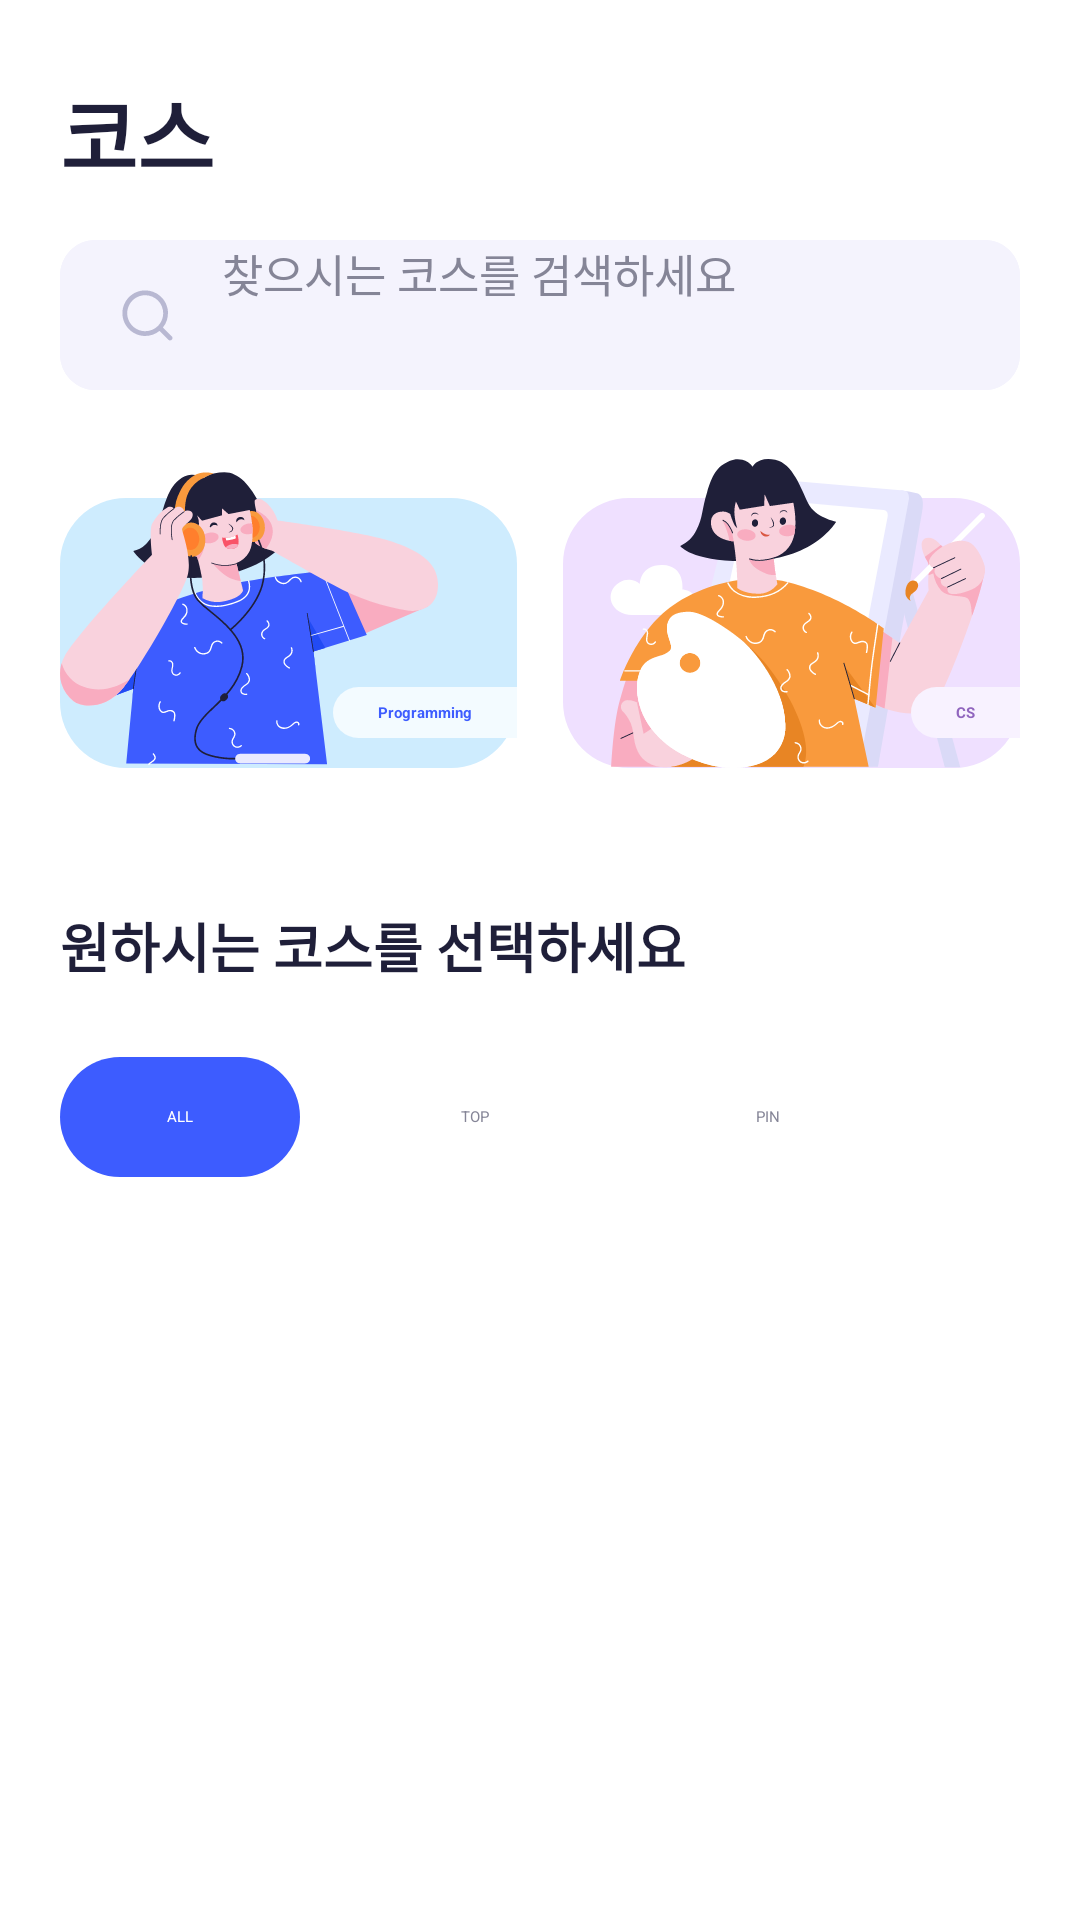

Where icons sit on this 1080px x 1920px app screen, as region(x1, y1, x2, y2):
search: region(122, 290, 172, 340)
